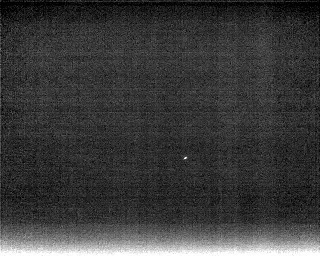BIRD: (181, 154, 190, 163)
